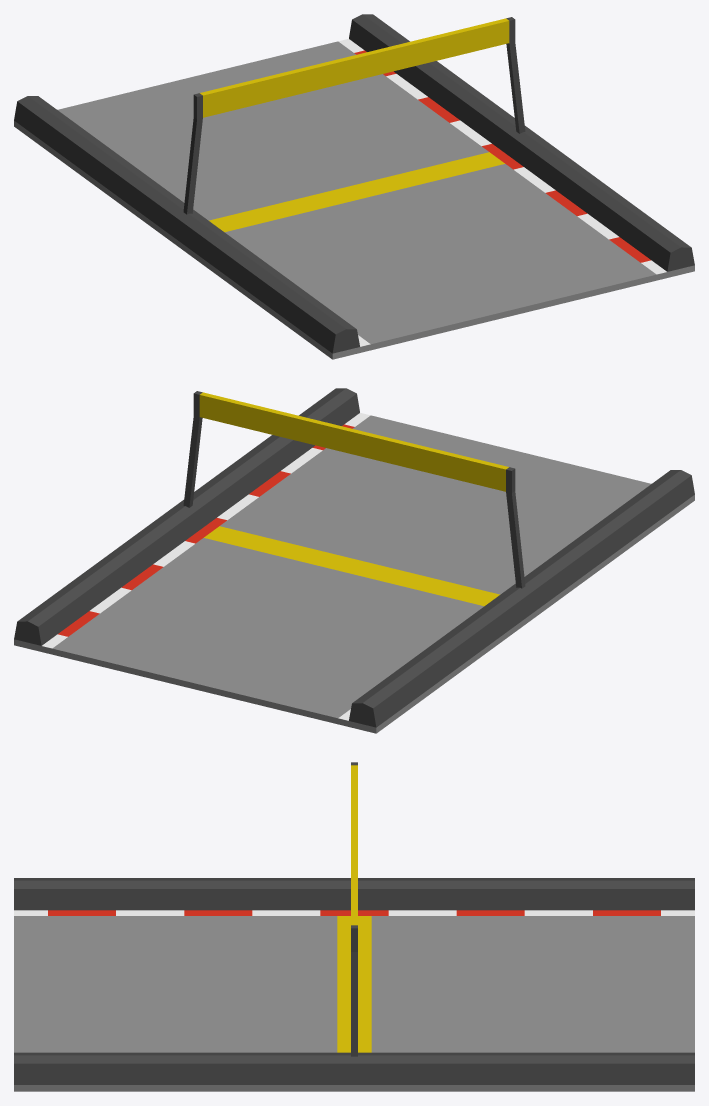
Rendered from car.glb.
The picture shows the model from 3 angles, top to bottom: view 1: azimuth 30°, elevation 25°; view 2: azimuth 150°, elevation 25°; view 3: azimuth 270°, elevation 25°; orthographic projection. The views are drawn at different scales.
Visible parts, largest first — view 1: Body; view 2: Body; view 3: Body.
Part boxes in pixels (bbox=[...]): Body: bbox=[14, 14, 694, 359]; Body: bbox=[14, 388, 694, 733]; Body: bbox=[14, 762, 694, 1091].
Size of what is drawn, in the model's own units: 6.57 by 3.33 by 10.
